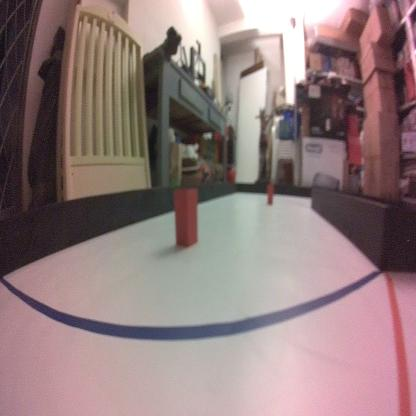red: (174, 188, 198, 247), (268, 185, 272, 207)
